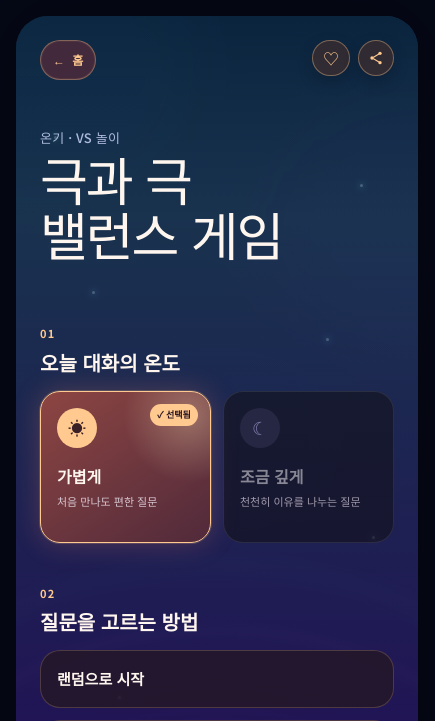
Test case: 놀이와 도구 링크 공유 › 밸런스 게임의 가볍게와 조금 깊게 좋아요를 따로 유지한다
Click the button named "좋아요 추가 · 현재 0개" at coordinates (331, 58), box [312,40,350,76]
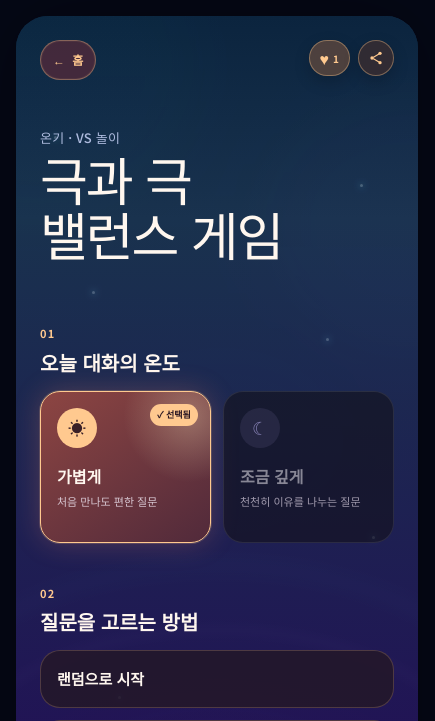
Result: the button named "좋아요 취소 · 현재 1개" is shown at [309,40,350,76]
Click the button "☾ 조금 깊게 천천히 이유를 나누는 질문" at coordinates (308, 467), box [223,391,394,543]
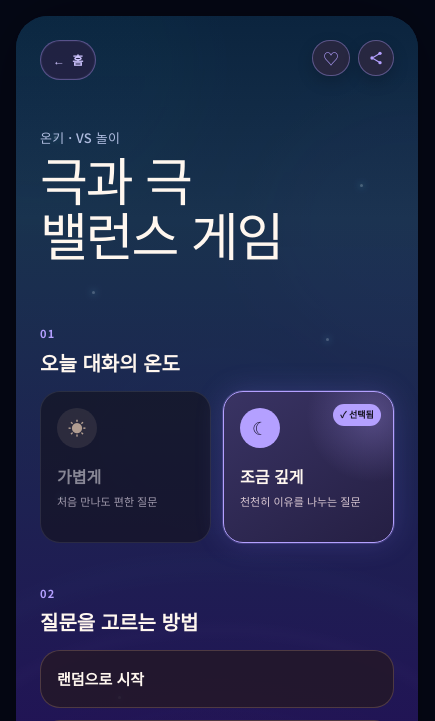
Result: the button named "좋아요 추가 · 현재 0개" is shown at [312,40,350,76]
